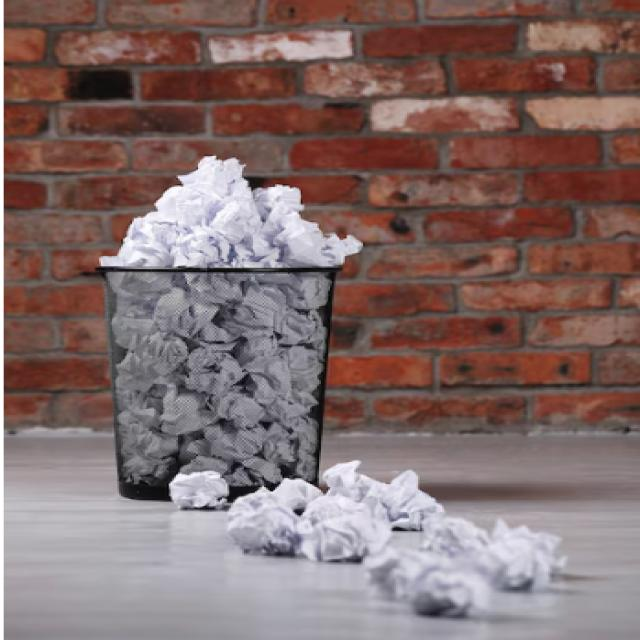KertasBekas: (94, 153, 363, 502), (224, 457, 566, 618)
